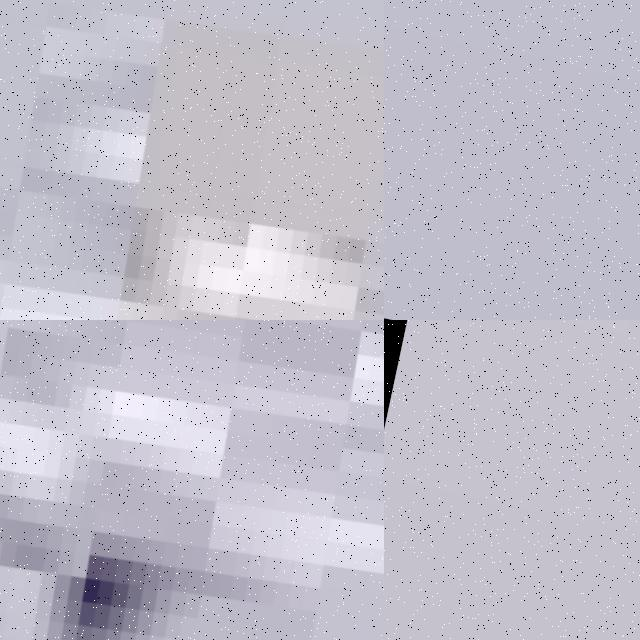drone: (0, 0, 384, 320), (0, 320, 384, 640)
